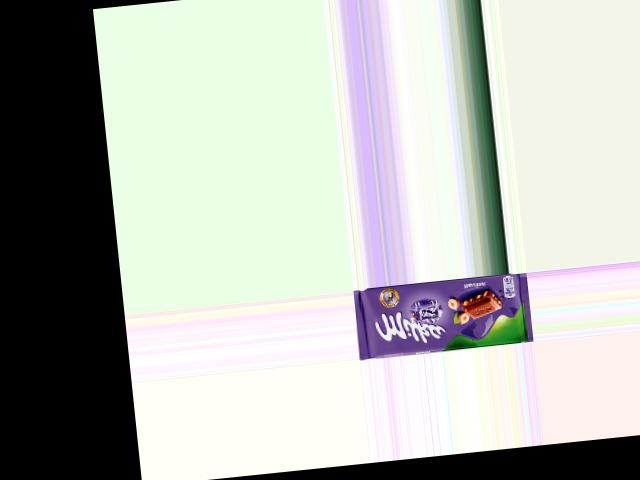chocolate: (352, 271, 534, 359)
